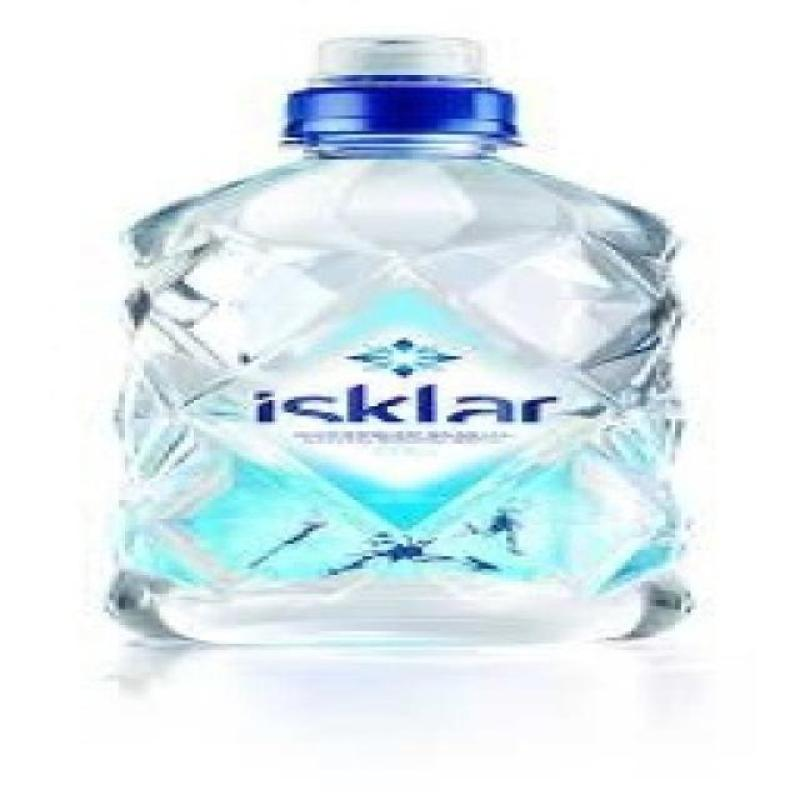botella: (126, 33, 689, 652)
